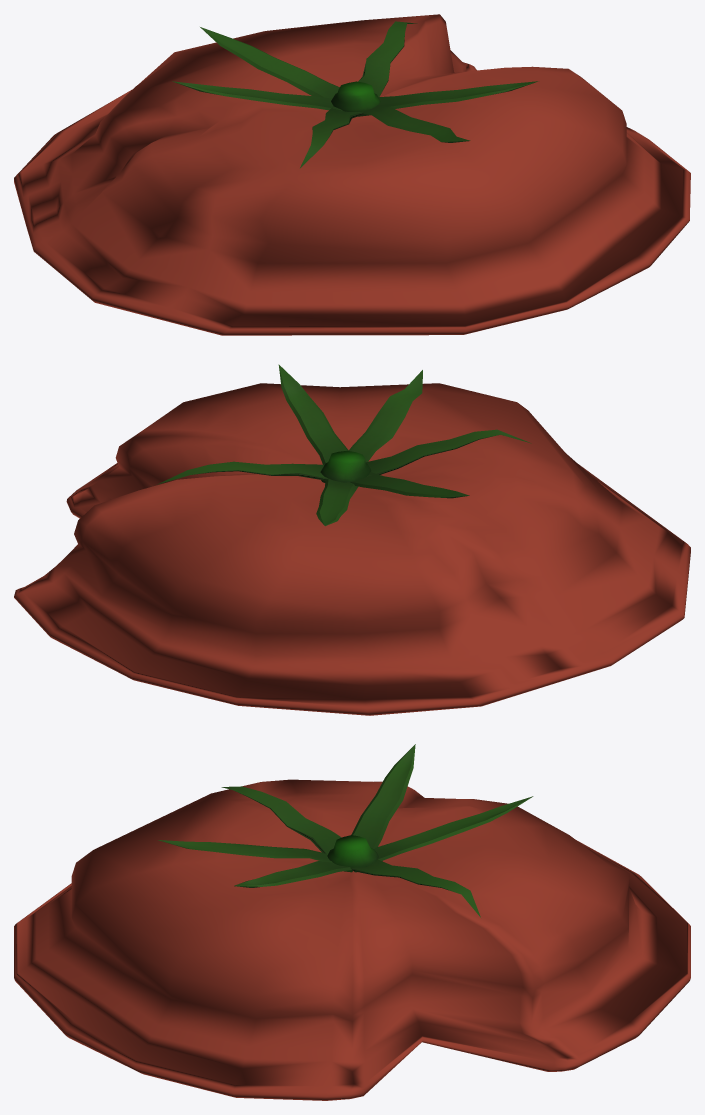
The model's file is tomato.fbx.
3 views of the same model, one above another, from view 1: azimuth 30°, elevation 25°; view 2: azimuth 150°, elevation 25°; view 3: azimuth 270°, elevation 25° (orthographic). The views are drawn at different scales.
Visible parts, largest first — view 1: tomato_UV:calyx4; view 2: tomato_UV:calyx4; view 3: tomato_UV:calyx4.
Part boxes in pixels (x1,y1,x2,y2): tomato_UV:calyx4: [14, 14, 690, 335]; tomato_UV:calyx4: [14, 364, 690, 715]; tomato_UV:calyx4: [14, 744, 690, 1100].
Size of the model in its own units: 36.1 by 8.45 by 35.62.
